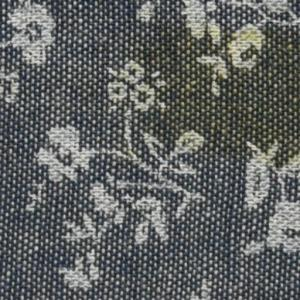Oil Stain: (114, 21, 300, 178)
